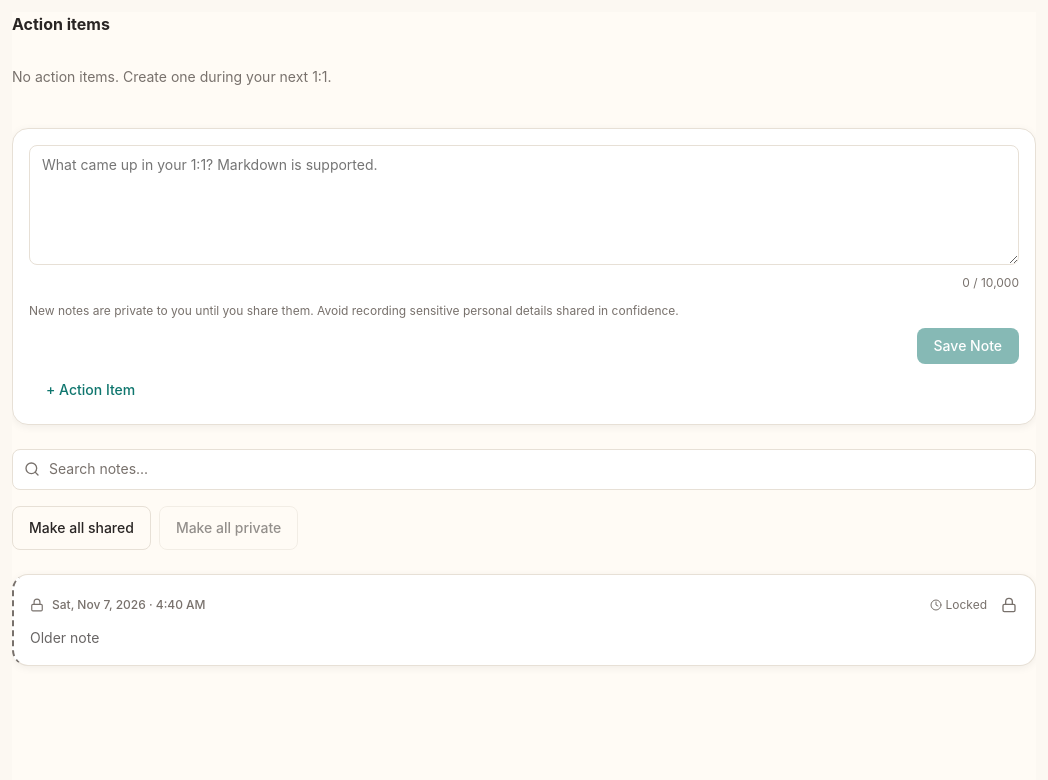
NotesSection › saving a note adds it to the top of the list
This screenshot has width=1048, height=780.
Type "Brand new note" into the text box named "1:1 Notes" at (524, 205), box [29, 145, 1019, 265]
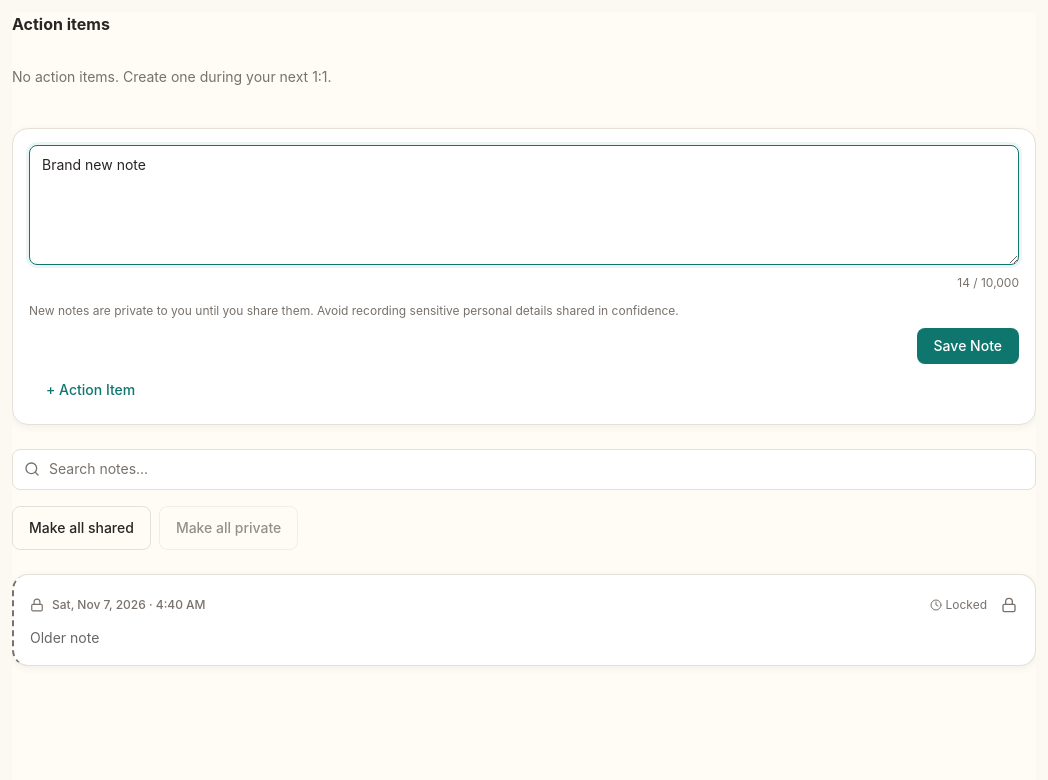
Click the button "Save Note" at (968, 346), box [917, 328, 1019, 364]
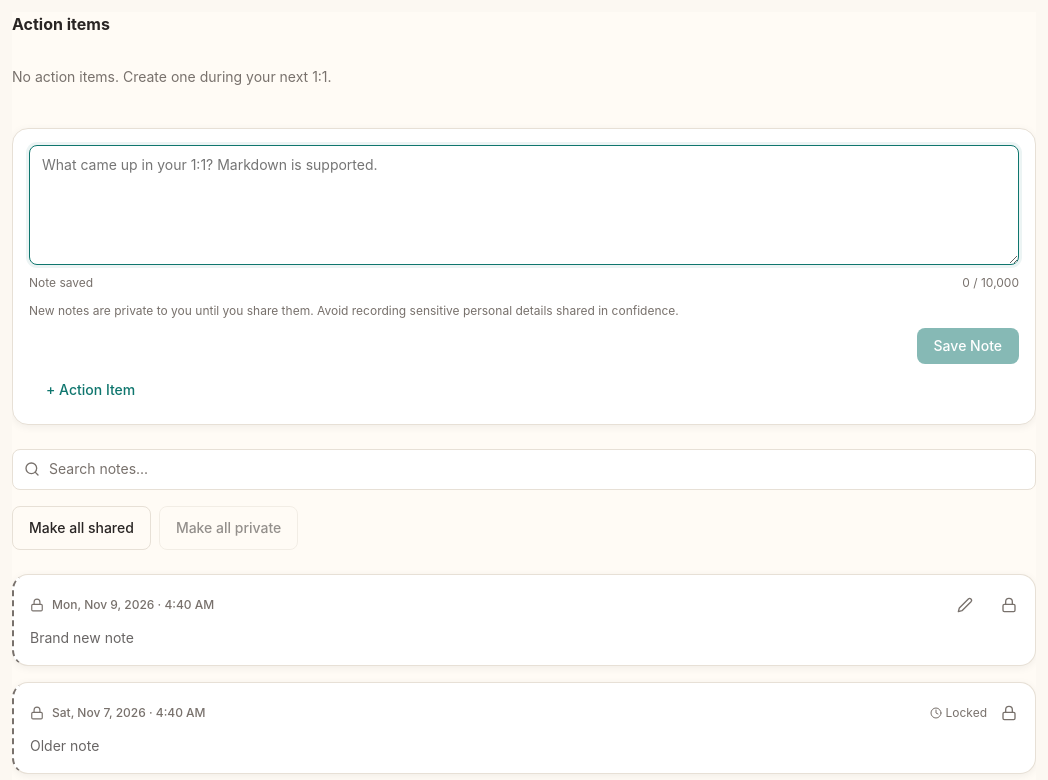
Check: the number of list items is 2, box [12, 574, 1036, 666]; [12, 682, 1036, 774]
Check: the list item "Mon, Nov 9, 2026 · 4:40 AM Brand new note" is shown, box [12, 574, 1036, 666]
Check: the text box named "1:1 Notes" is empty, box [29, 145, 1019, 265]
